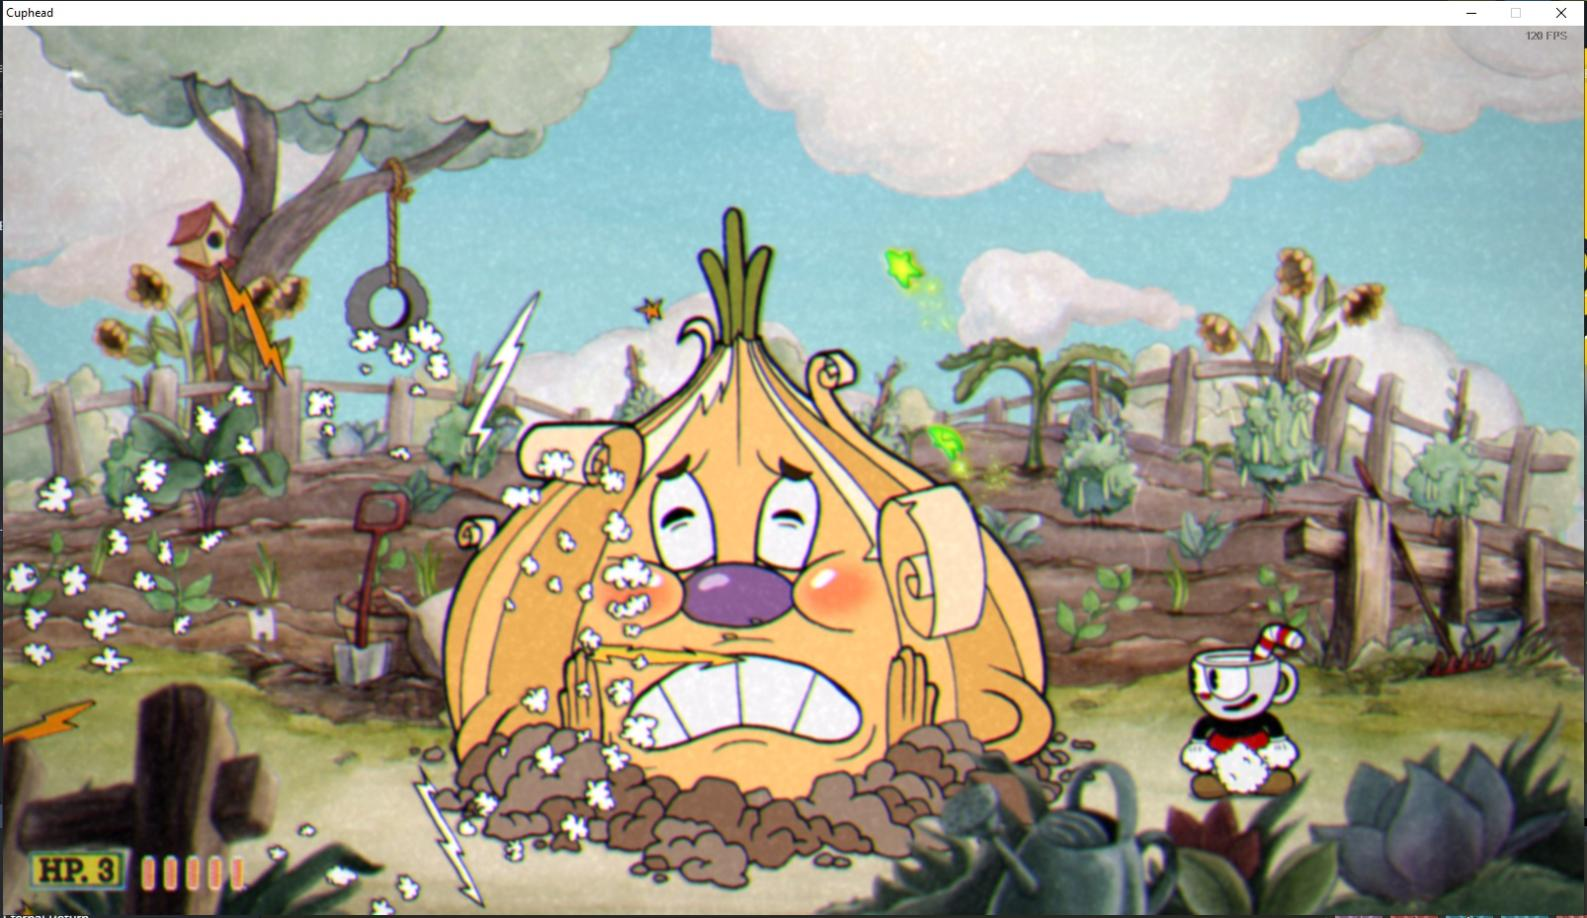hp3: (92, 853, 123, 890)
onion_boss: (435, 206, 1057, 834)
player: (1173, 617, 1323, 810)
